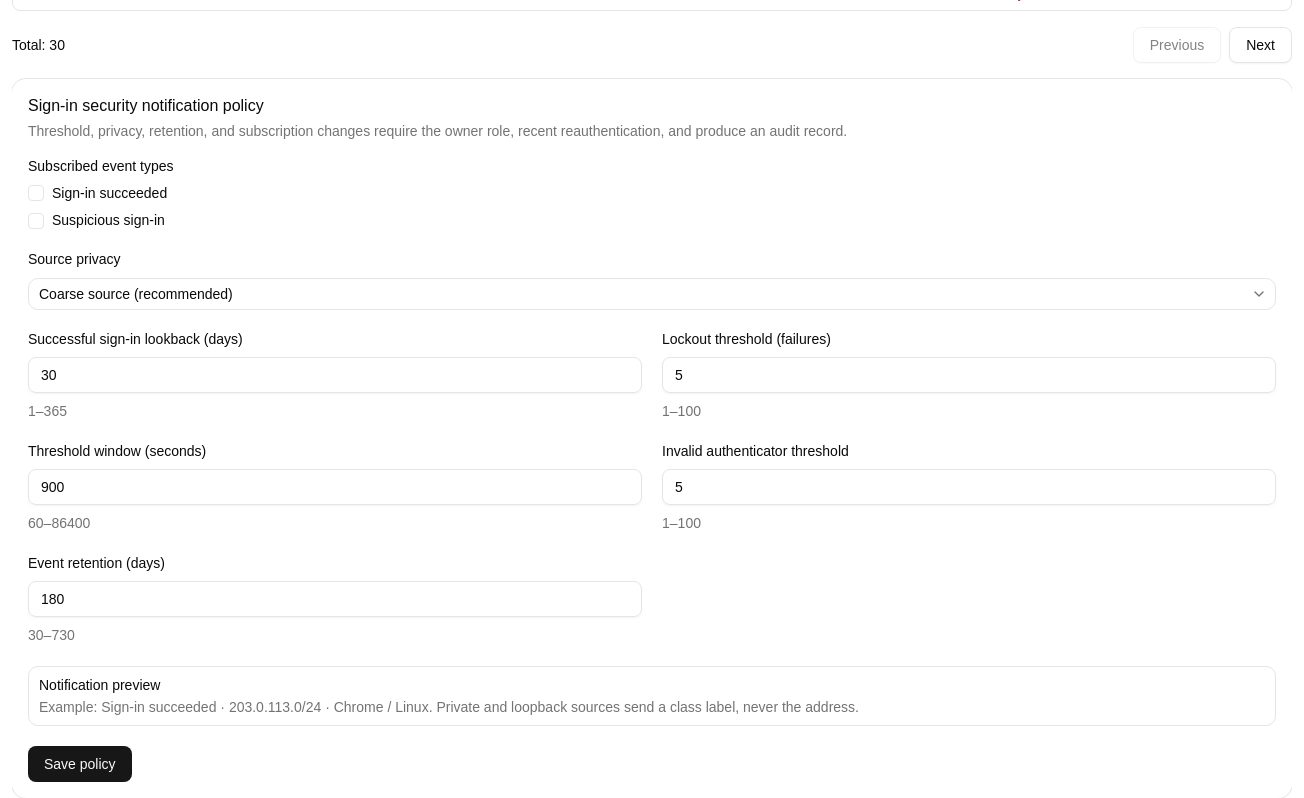
Test case: sign-in security events console › validates subscriptions before requesting confirmation
(page scrolled)
Step 1. Click the button "Save policy" → {"x": 80, "y": 764}, box left=28, top=746, right=132, bottom=782
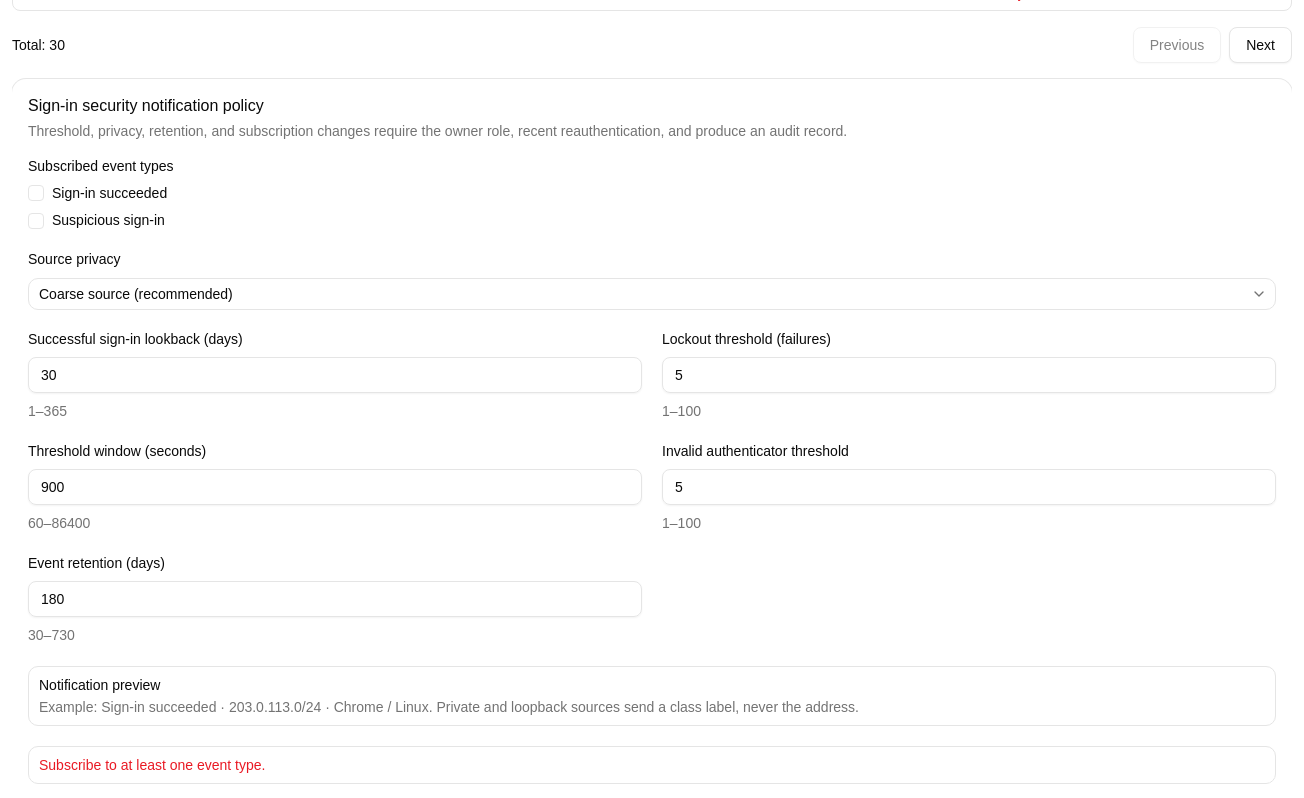
Expected: the text "Subscribe to at least one event type." is shown, left=39, top=757, right=266, bottom=773
